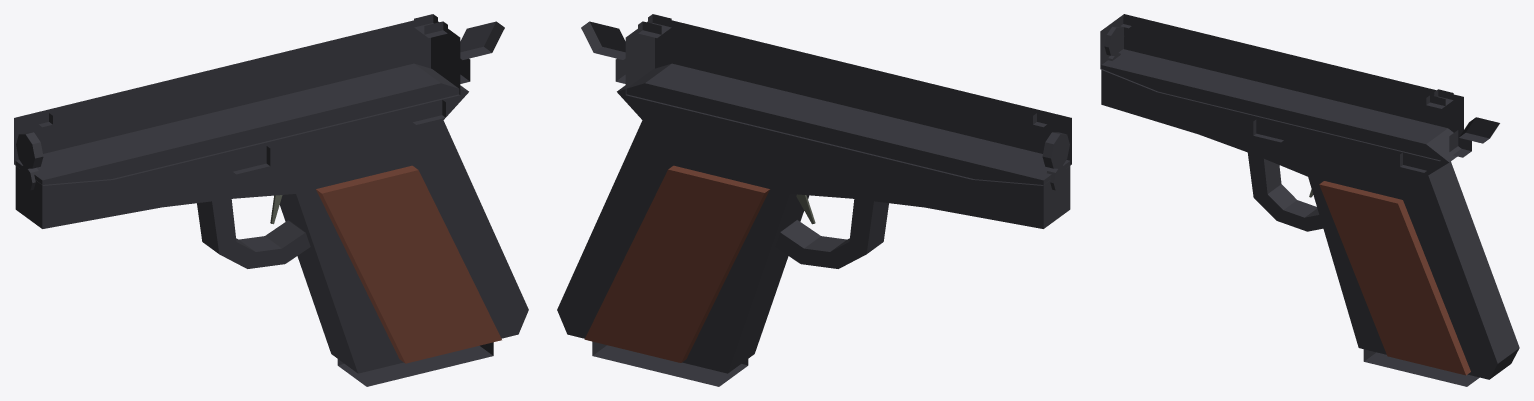
3 renders of one model, left to right at view 1: azimuth 30°, elevation 25°; view 2: azimuth 150°, elevation 25°; view 3: azimuth 330°, elevation 25°, orthographic. The views are drawn at different scales.
Visible parts, largest first — view 1: Colt45_Pistol, Colt45_Pistol.003, Colt45_Pistol.001, Colt45_Pistol.002, Colt45_Pistol.004, Colt45_Pistol.005, Colt45_Pistol.009, Colt45_Pistol.008; view 2: Colt45_Pistol, Colt45_Pistol.015, Colt45_Pistol.001, Colt45_Pistol.002, Colt45_Pistol.004, Colt45_Pistol.005, Colt45_Pistol.009, Colt45_Pistol.008; view 3: Colt45_Pistol, Colt45_Pistol.003, Colt45_Pistol.001, Colt45_Pistol.002, Colt45_Pistol.004, Colt45_Pistol.005, Colt45_Pistol.009, Colt45_Pistol.006, Colt45_Pistol.008.
Part boxes in pixels (x1=…): Colt45_Pistol: x1=15, y1=63, x2=528, y2=373; Colt45_Pistol.003: x1=316, y1=165, x2=501, y2=363; Colt45_Pistol.001: x1=14, y1=20, x2=460, y2=185; Colt45_Pistol.002: x1=197, y1=199, x2=310, y2=268; Colt45_Pistol.004: x1=337, y1=342, x2=493, y2=386; Colt45_Pistol.005: x1=460, y1=21, x2=504, y2=59; Colt45_Pistol.009: x1=16, y1=132, x2=43, y2=168; Colt45_Pistol.008: x1=414, y1=14, x2=447, y2=37; Colt45_Pistol: x1=557, y1=63, x2=1070, y2=373; Colt45_Pistol.015: x1=584, y1=165, x2=769, y2=362; Colt45_Pistol.001: x1=625, y1=20, x2=1071, y2=185; Colt45_Pistol.002: x1=775, y1=199, x2=888, y2=268; Colt45_Pistol.004: x1=592, y1=341, x2=748, y2=386; Colt45_Pistol.005: x1=581, y1=21, x2=625, y2=59; Colt45_Pistol.009: x1=1042, y1=132, x2=1069, y2=168; Colt45_Pistol.008: x1=638, y1=14, x2=671, y2=37; Colt45_Pistol: x1=1101, y1=49, x2=1519, y2=379; Colt45_Pistol.003: x1=1319, y1=181, x2=1470, y2=375; Colt45_Pistol.001: x1=1100, y1=14, x2=1463, y2=161; Colt45_Pistol.002: x1=1248, y1=152, x2=1323, y2=231; Colt45_Pistol.004: x1=1363, y1=349, x2=1479, y2=386; Colt45_Pistol.005: x1=1459, y1=117, x2=1499, y2=143; Colt45_Pistol.009: x1=1104, y1=26, x2=1124, y2=55; Colt45_Pistol.006: x1=1449, y1=130, x2=1471, y2=157; Colt45_Pistol.008: x1=1426, y1=89, x2=1453, y2=108.
Bounding box in the file's own units: 0.2085 × 0.1364 × 0.0283.
